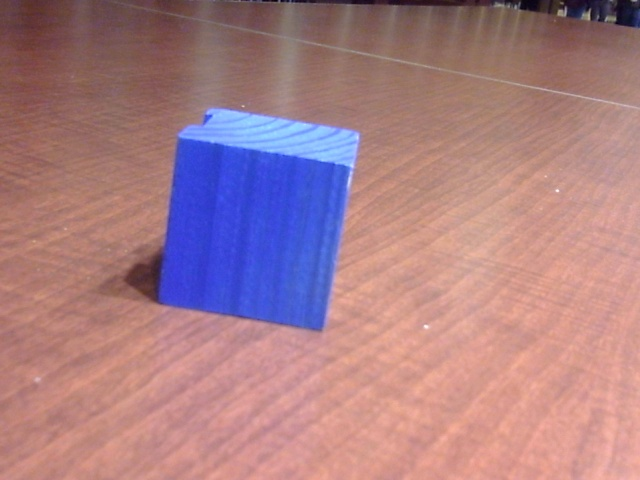BlueBlock: (159, 105, 360, 334)
